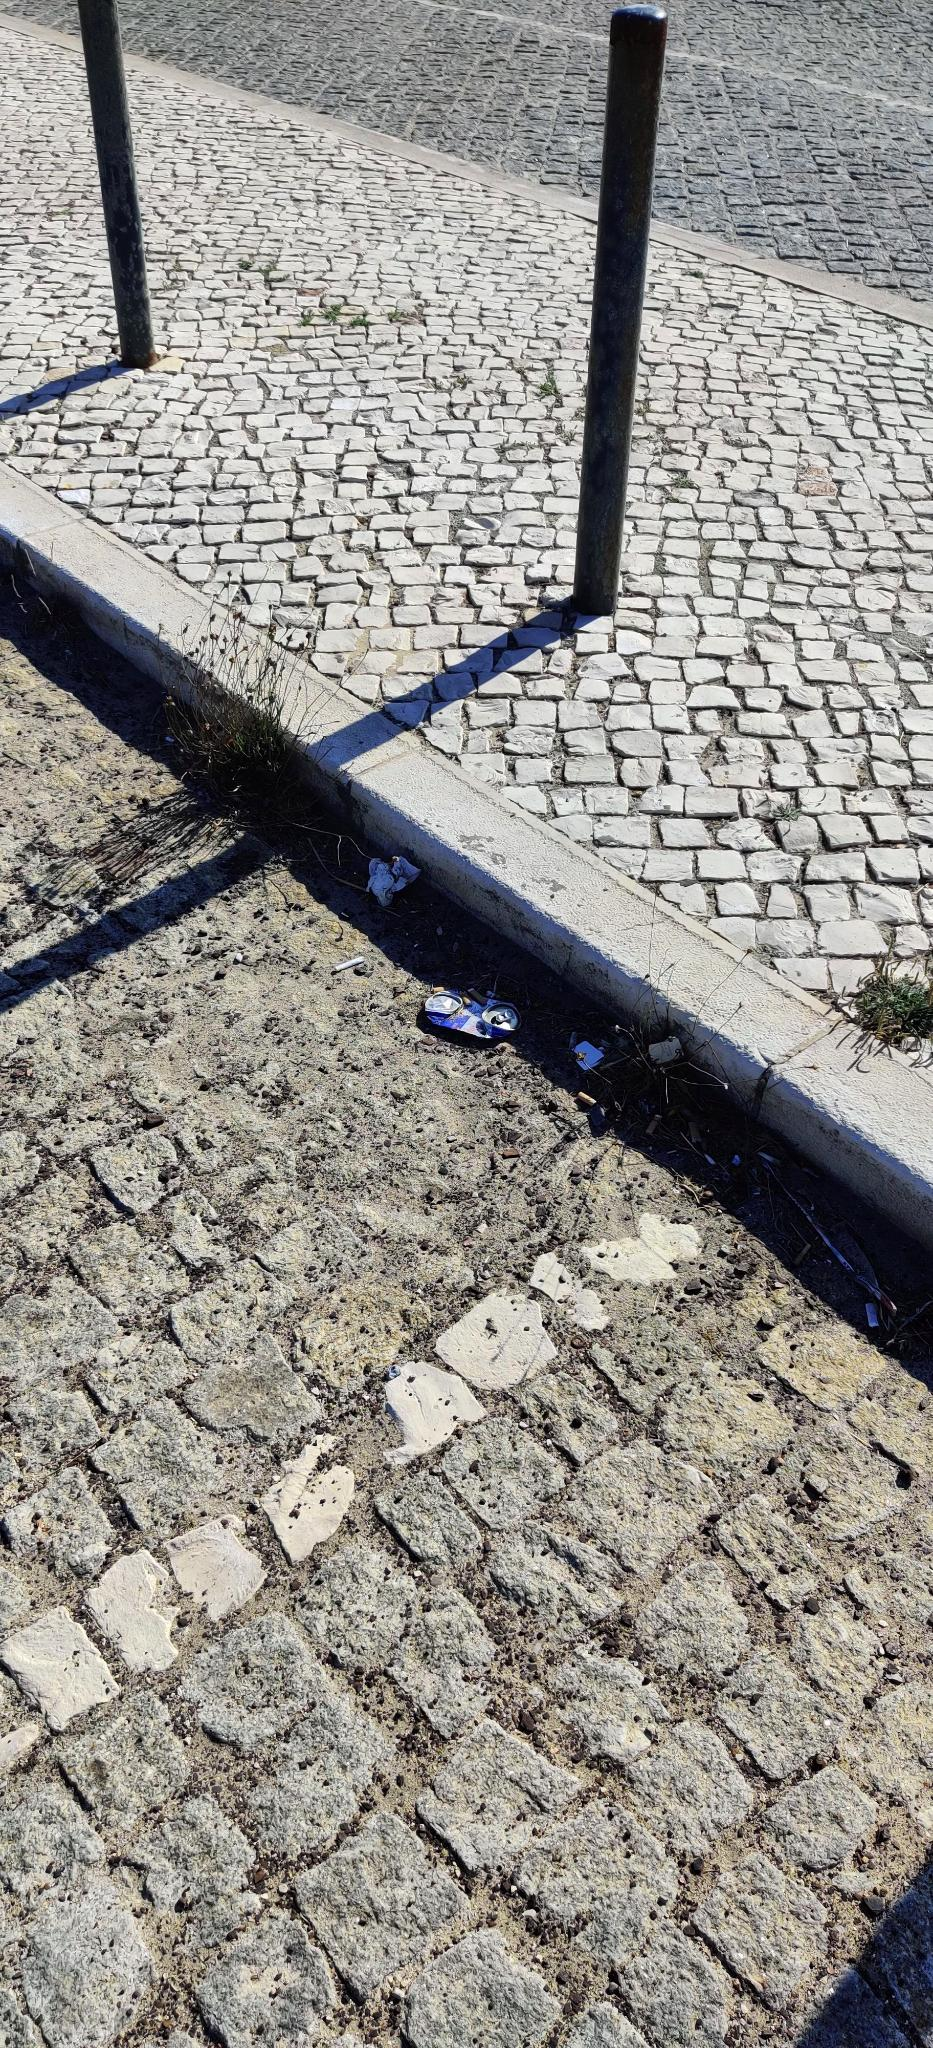Plastic: (419, 987, 525, 1045)
Trash: (355, 849, 425, 910), (636, 1033, 689, 1067), (566, 1037, 609, 1075), (331, 950, 367, 978)
